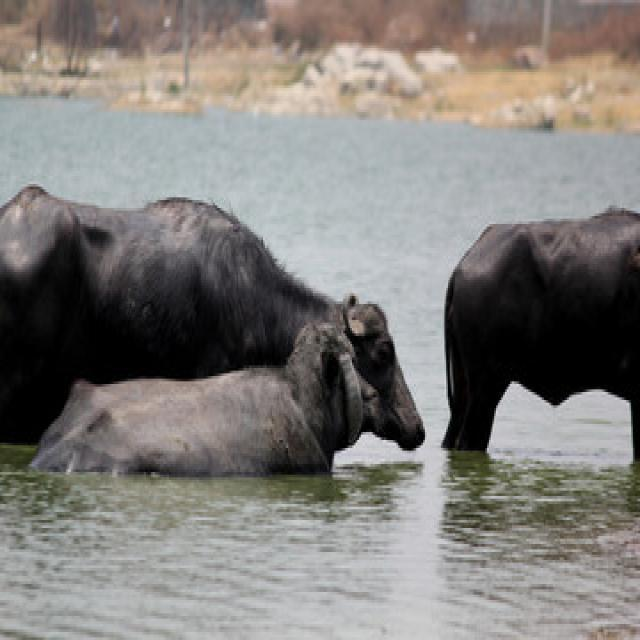Buffalo: (25, 337, 358, 528), (446, 208, 640, 472)
